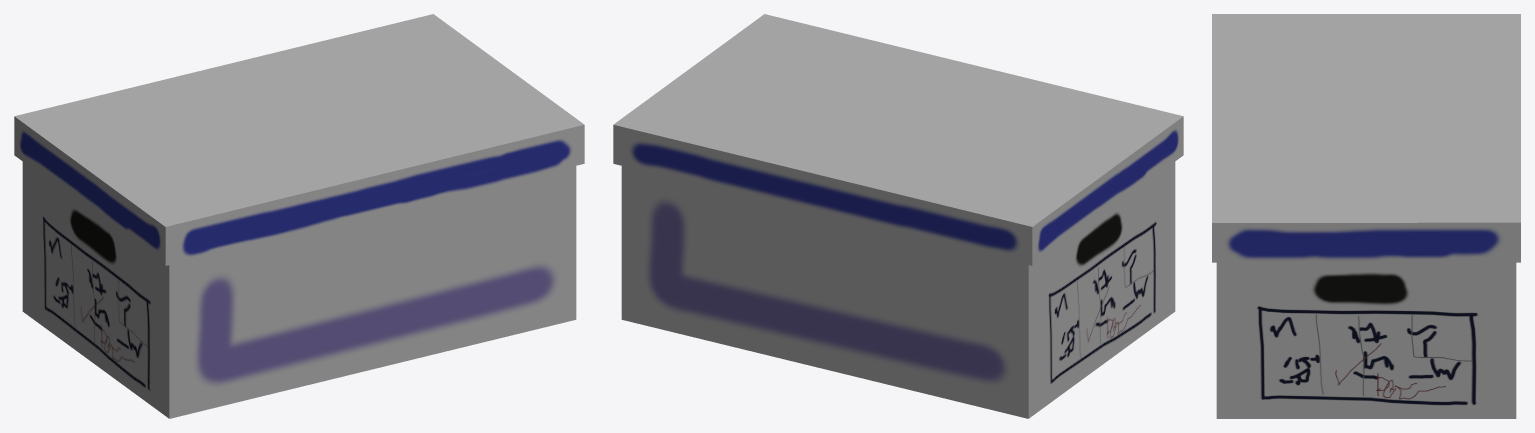
Rendered from BankersBox.fbx.
The picture shows the model from 3 angles, left to right: view 1: azimuth 30°, elevation 25°; view 2: azimuth 150°, elevation 25°; view 3: azimuth 270°, elevation 25°; orthographic projection. The views are drawn at different scales.
Parts seen in each view (by area): view 1: BankersBox; view 2: BankersBox; view 3: BankersBox.
Part boxes in pixels (bbox=[...]): BankersBox: bbox=[14, 14, 584, 418]; BankersBox: bbox=[613, 14, 1183, 418]; BankersBox: bbox=[1212, 14, 1520, 418].
Bounding box in the file's own units: 62.8 × 39.25 × 27.94.
